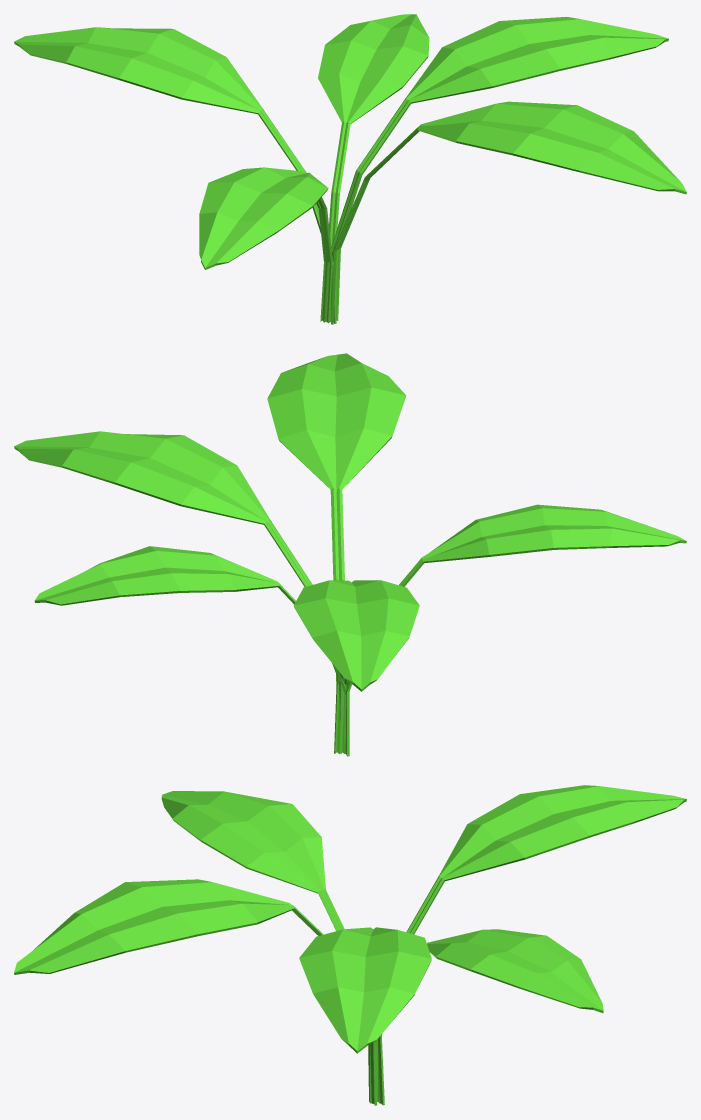
The model's file is plant.fbx.
3 views of the same model, one above another, from view 1: azimuth 30°, elevation 25°; view 2: azimuth 150°, elevation 25°; view 3: azimuth 270°, elevation 25° (orthographic). The views are drawn at different scales.
Visible parts, largest first — view 1: Plane.002; view 2: Plane.002; view 3: Plane.002.
Part boxes in pixels (bbox=[...]): Plane.002: bbox=[14, 14, 686, 324]; Plane.002: bbox=[14, 353, 686, 756]; Plane.002: bbox=[14, 785, 686, 1105].
Size of the model in its own units: 248 by 106 by 250.
